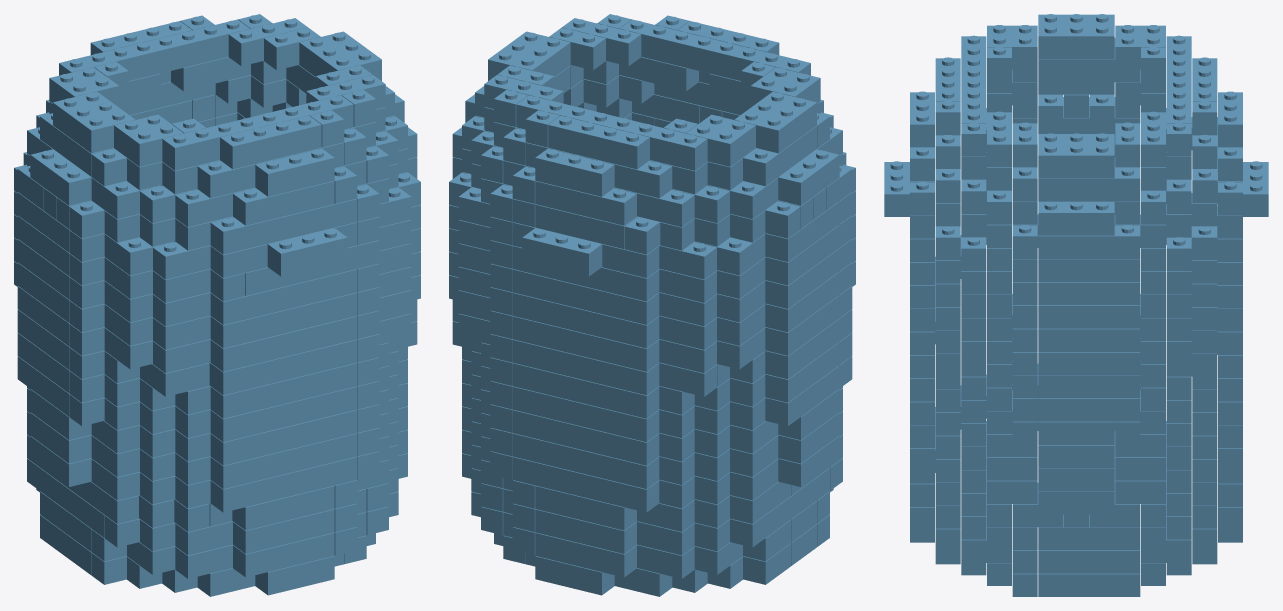
File: 091_bowl_L1.glb
The picture shows the model from 3 angles, left to right: view 1: azimuth 30°, elevation 25°; view 2: azimuth 150°, elevation 25°; view 3: azimuth 270°, elevation 25°; orthographic projection.
Bounding box in the file's own units: 14.98 × 19.13 × 14.98.
